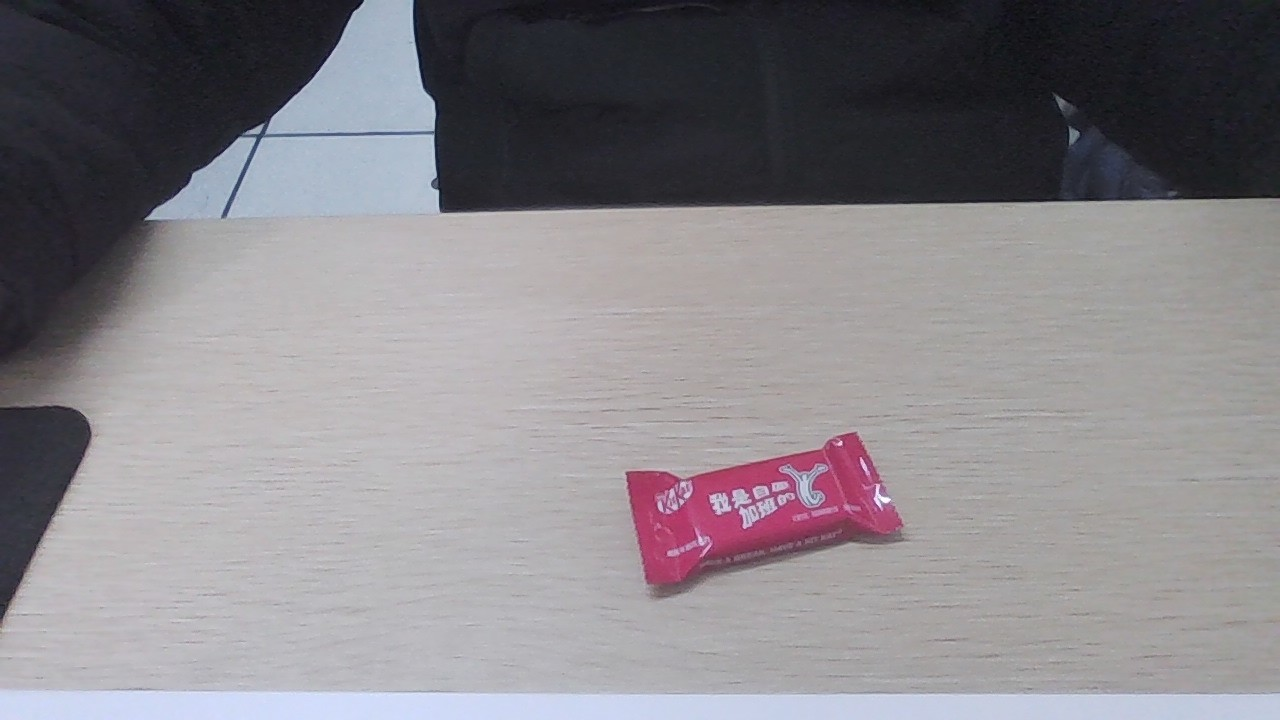CY-chocolate: (624, 453, 902, 582)
